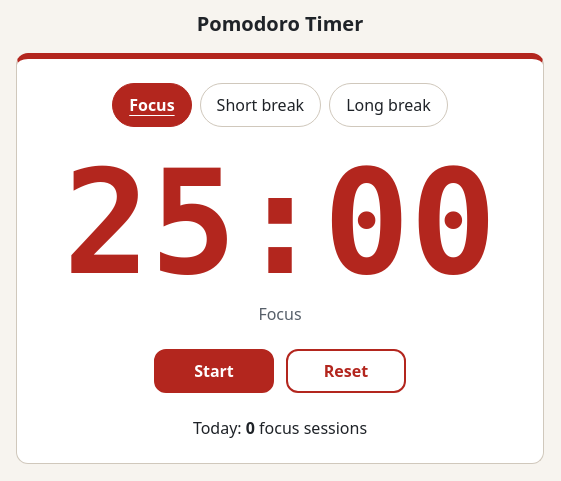
Test: S1 Start, pause and reset › after Start and 3 s the display reads 24:57 and Start becomes Pause
Click the button "Start" at (214, 371), box x1=154 y1=349 x2=274 y2=393
Wait 3000 ms
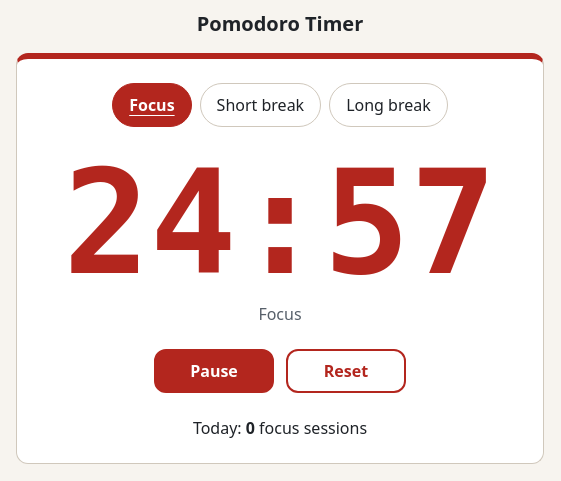
Check: the button "Pause" is shown, box x1=154 y1=349 x2=274 y2=393
Check: the button "Start" is gone
